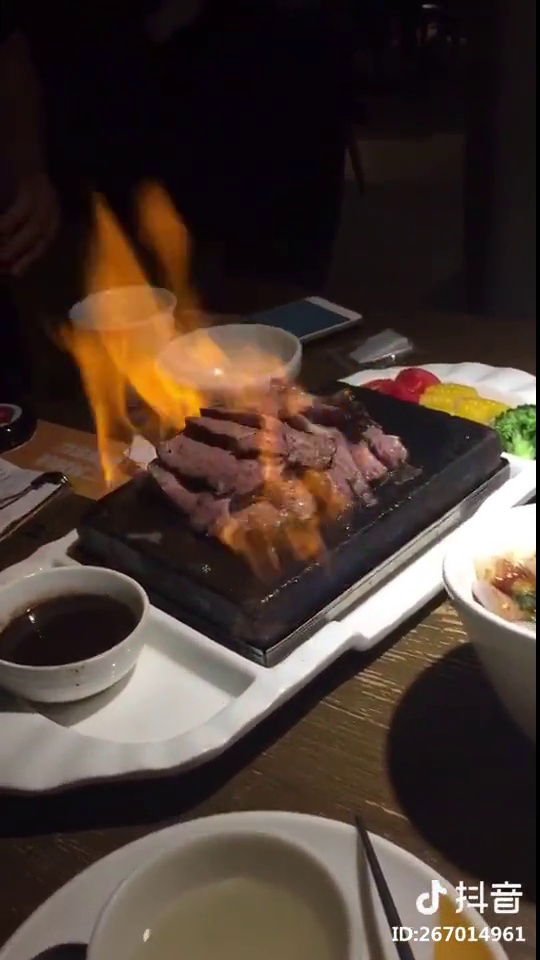fire: (61, 213, 191, 438)
